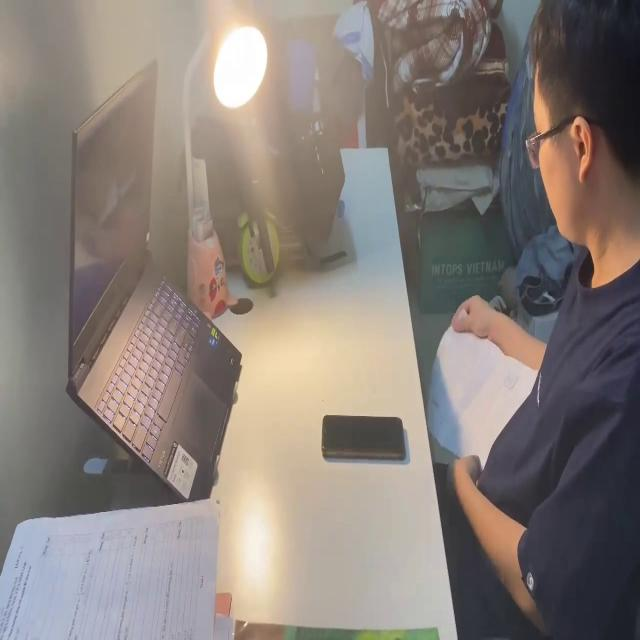book: (0, 495, 230, 640), (423, 299, 542, 475)
laptop: (61, 50, 243, 498)
phone: (320, 408, 408, 469)
student: (423, 0, 640, 640)
